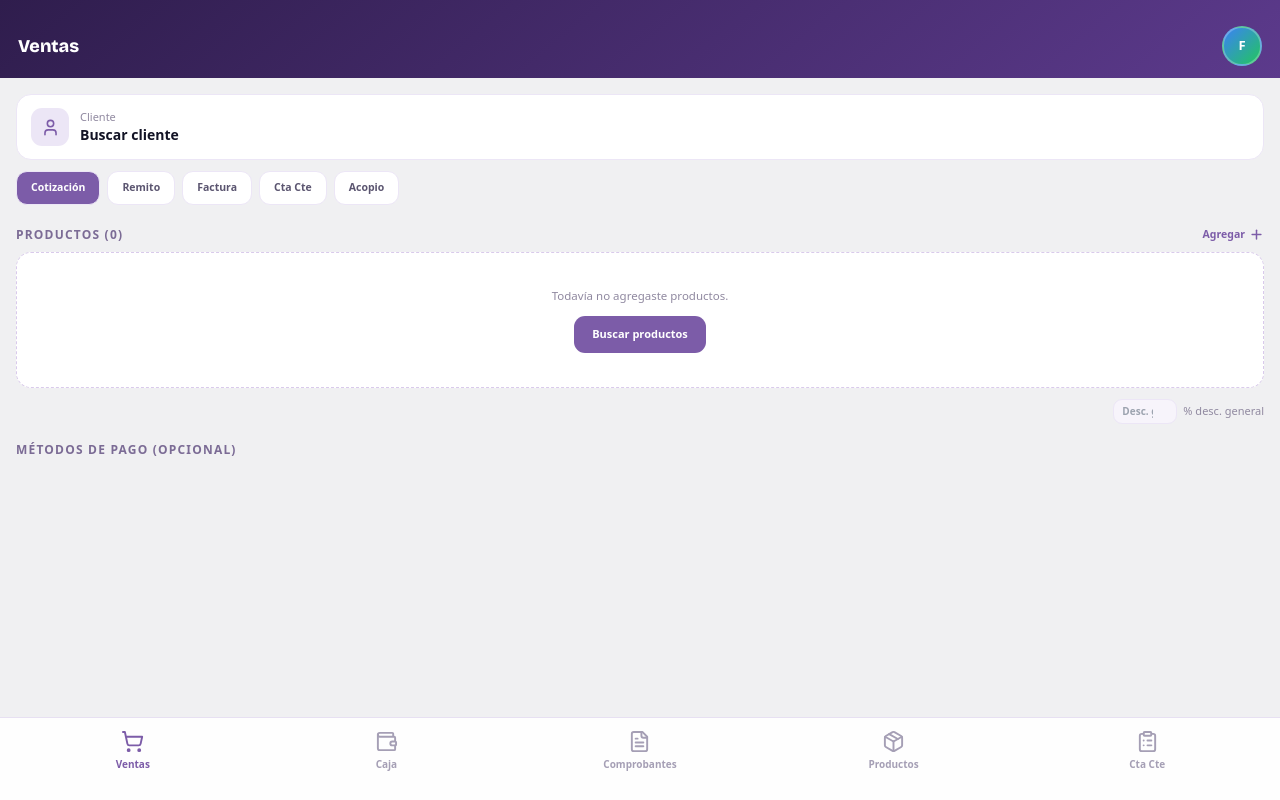
MobileShell — bottom tab bar › switches to Caja tab and renders the cash screen
The image size is (1280, 800).
Click the button "Caja": click(386, 751) [260, 726, 513, 776]
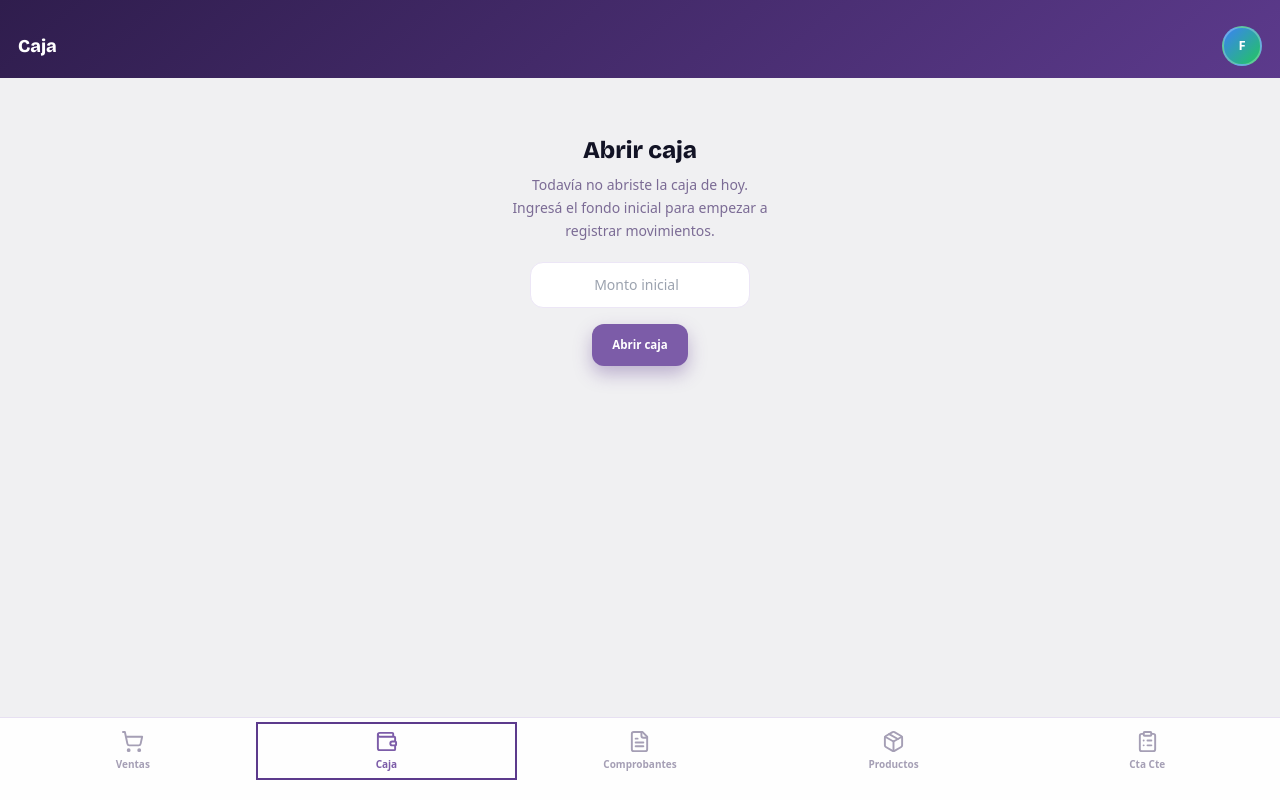
Result: the heading "Abrir caja" is shown at [583, 134, 697, 166]
